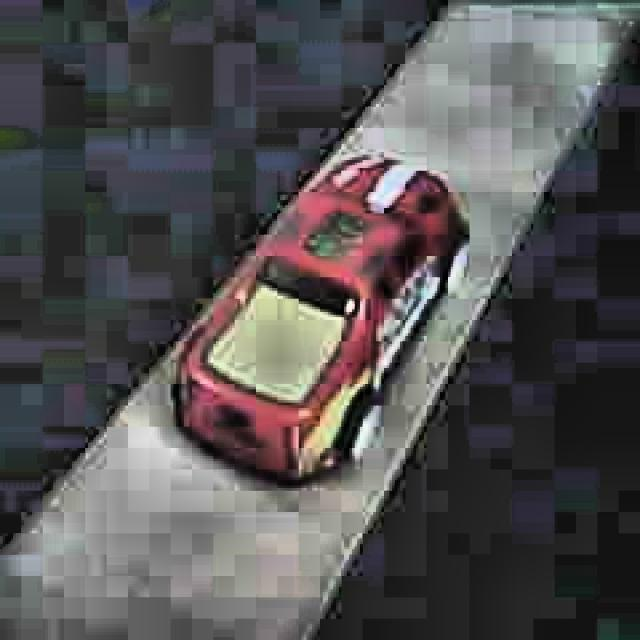car: (168, 147, 471, 493)
